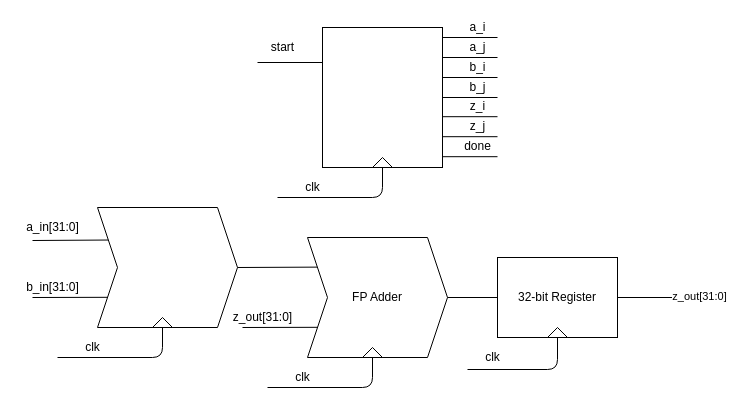
The diagram is 743 pixels wide and 406 high, and some of its shapes have lost their labels. Each missing label, with the centre of its shape:
"Control State Machine" goes at pixel 382 97.
"FP Multiplier" goes at pixel 167 267.
